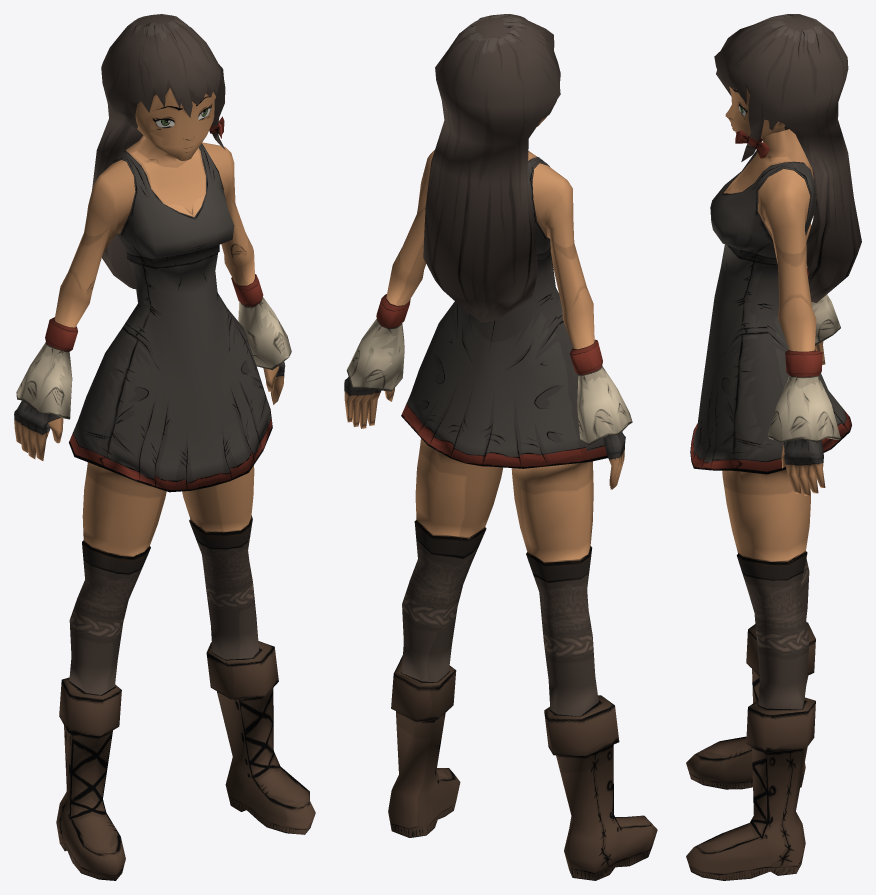
Rendered from Rina.fbx.
3 renders of one model, left to right at view 1: azimuth 30°, elevation 25°; view 2: azimuth 150°, elevation 25°; view 3: azimuth 270°, elevation 25°, orthographic. The views are drawn at different scales.
Parts seen in each view (by area): view 1: Cube.001; view 2: Cube.001; view 3: Cube.001.
Part boxes in pixels (box(x1,y1,x2,y2)): Cube.001: box(14, 14, 315, 880); Cube.001: box(344, 14, 657, 880); Cube.001: box(686, 14, 861, 880).
Size of the model in its own units: 866 by 2490 by 493.
1 material, 1 textured.
